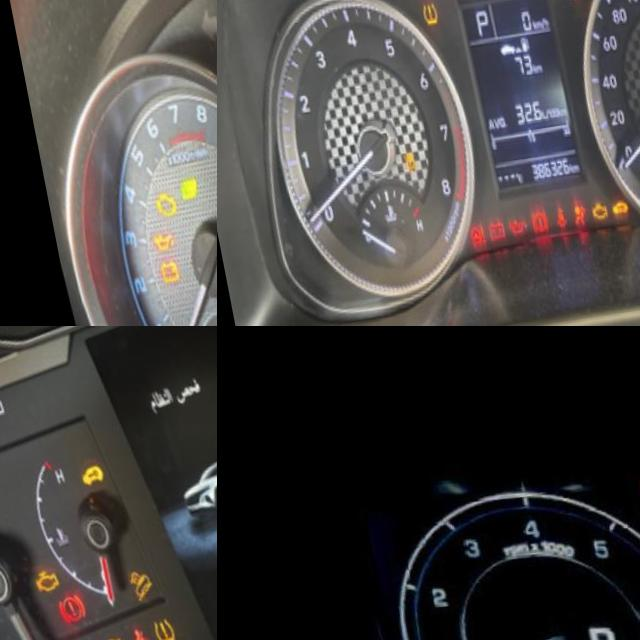Electronic Power Steering: (447, 230, 471, 260)
security: (63, 469, 95, 497)
